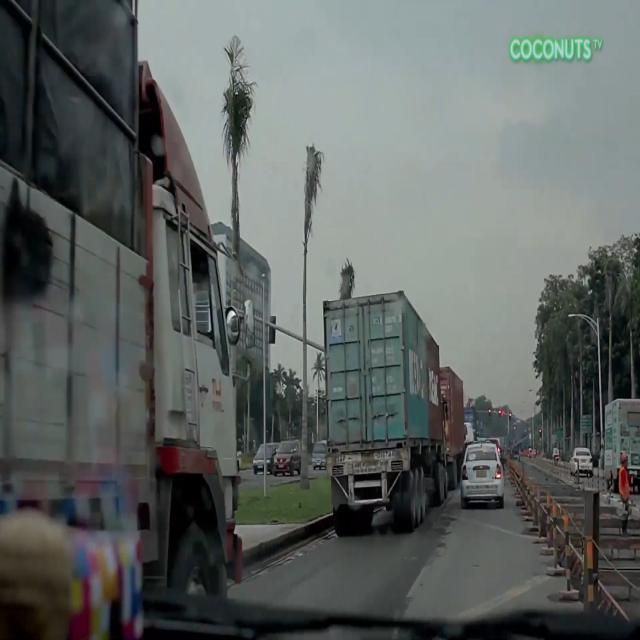truck: (0, 0, 257, 602), (322, 290, 452, 536), (600, 398, 640, 493), (441, 363, 467, 493)
